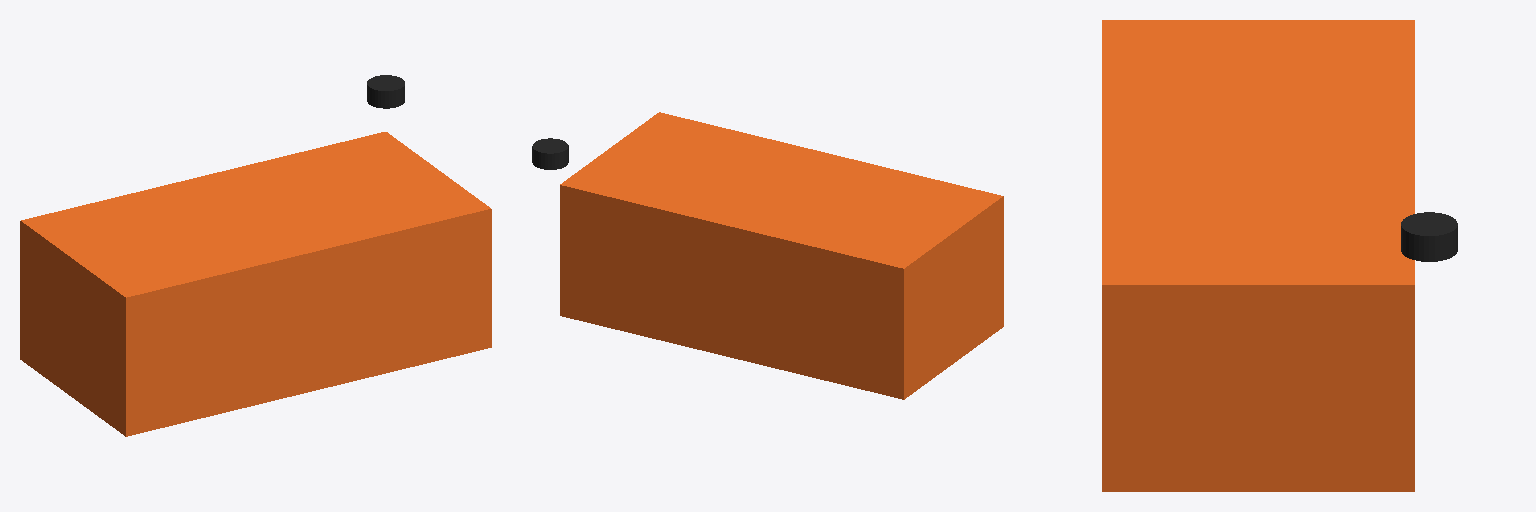
URDF robot description (agv_2d):
<!--
  Copyright 2016 The Cartographer Authors

  Licensed under the Apache License, Version 2.0 (the "License");
  you may not use this file except in compliance with the License.
  You may obtain a copy of the License at

       http://www.apache.org/licenses/LICENSE-2.0

  Unless required by applicable law or agreed to in writing, software
  distributed under the License is distributed on an "AS IS" BASIS,
  WITHOUT WARRANTIES OR CONDITIONS OF ANY KIND, either express or implied.
  See the License for the specific language governing permissions and
  limitations under the License.
-->

<robot name="agv_2d">
   <material name="orange">
    <color rgba="1.0 0.5 0.2 1" />
  </material>
  <material name="gray">
    <color rgba="0.2 0.2 0.2 1" />
  </material>
  
  <link name="cloud">
    <visual>
      <origin xyz="0 0 0" rpy="0 0 0"/>
      <geometry>
        <cylinder length="0.1" radius="0.1" />
      </geometry>
      <material name="gray" />
    </visual>
  </link>
  
  <link name="base_link">
    <visual>
      <origin xyz="0.0 0 0.0" rpy="0 0 0"/>
      <geometry>
        <box size="2.2 1.1 0.8" />
      </geometry>
      <material name="orange" />
    </visual>
  </link>
  
  <link name="base_footprint">
    <visual>
      <origin xyz="0 0 0" rpy="0 0 0" />
      <geometry>
        <box size="2.2 1.1 0.0" />
      </geometry>
    </visual>
  </link>
  
  <joint name="base_footprint_joint" type="fixed">
    <origin xyz="0 0 0" rpy="0 0 0" />        
    <parent link="base_footprint"/>
    <child link="base_link" />
  </joint>
		
  <joint name="cloud_joint" type="fixed">
    <parent link="base_link" />
    <child link="cloud" />
    <origin rpy="0 0 0.7854" xyz="1.13 0.6 0.6" />
  </joint>

</robot>

--- Facts derived from the render (not from the file) ---
3 views of the same robot in one strip: view 1: azimuth 30°, elevation 25°; view 2: azimuth 150°, elevation 25°; view 3: azimuth 270°, elevation 25° (orthographic).
Model agv_2d with 3 links and 2 joints (2 fixed), rooted at base_footprint, posed every joint at zero.
Visible links, largest first — view 1: base_link, cloud; view 2: base_link, cloud; view 3: base_link, cloud.
Boxes of the visible links, bbox=[...] form: base_link: bbox=[20, 132, 491, 436]; cloud: bbox=[367, 75, 404, 108]; base_link: bbox=[560, 112, 1003, 399]; cloud: bbox=[532, 138, 568, 169]; base_link: bbox=[1102, 20, 1414, 491]; cloud: bbox=[1401, 212, 1457, 261].
Bounding box of the posed robot: 2.33 × 1.25 × 1.05 m (x, y, z).
Geometry: primitives only (box / cylinder / sphere), no mesh files.
